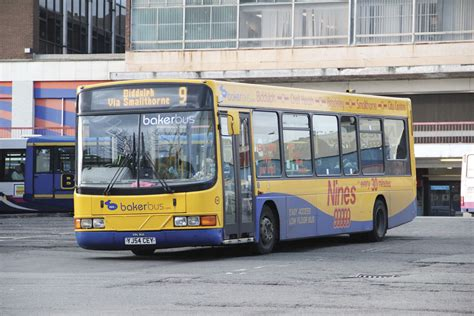bus: (77, 81, 417, 255)
